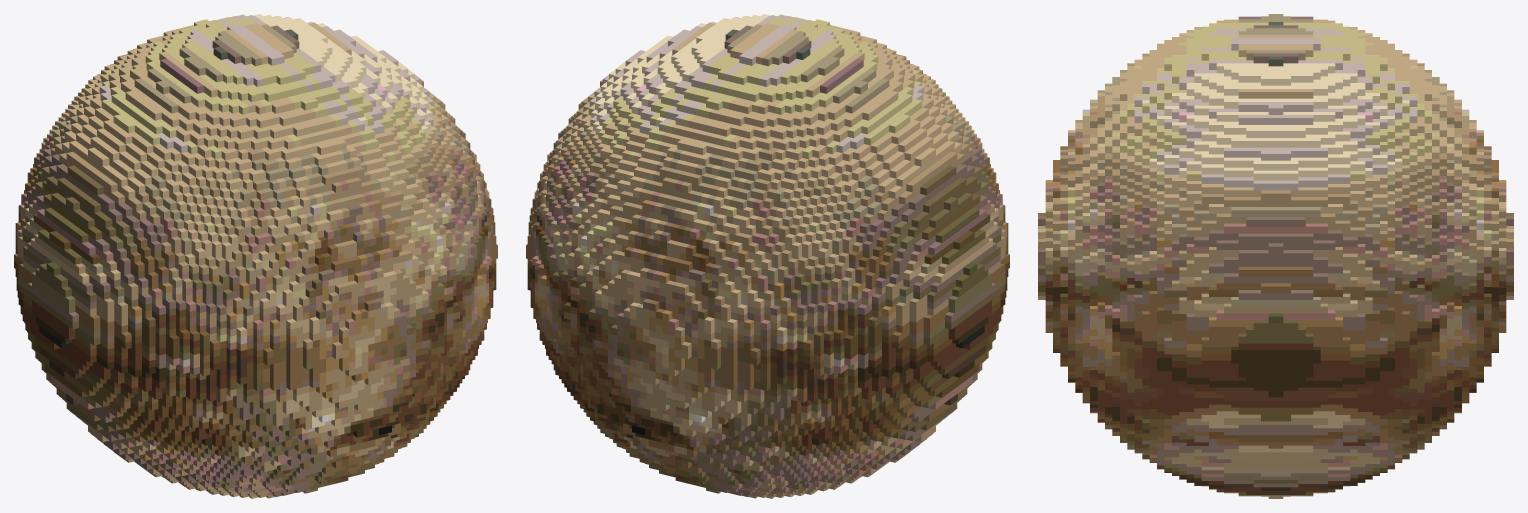
Rendered from pluto.glb.
The picture shows the model from 3 angles, left to right: view 1: azimuth 30°, elevation 25°; view 2: azimuth 150°, elevation 25°; view 3: azimuth 270°, elevation 25°; orthographic projection.
Visible parts, largest first — view 1: Voxel Ploto; view 2: Voxel Ploto; view 3: Voxel Ploto.
Boxes of the visible parts, box(x1,y1,x2,y2) form: Voxel Ploto: box(14, 14, 497, 498); Voxel Ploto: box(526, 14, 1009, 498); Voxel Ploto: box(1038, 14, 1513, 498).
Size of the model in its own units: 6.4 by 6.4 by 6.4.
Materials: 1 (1 with a texture image).
